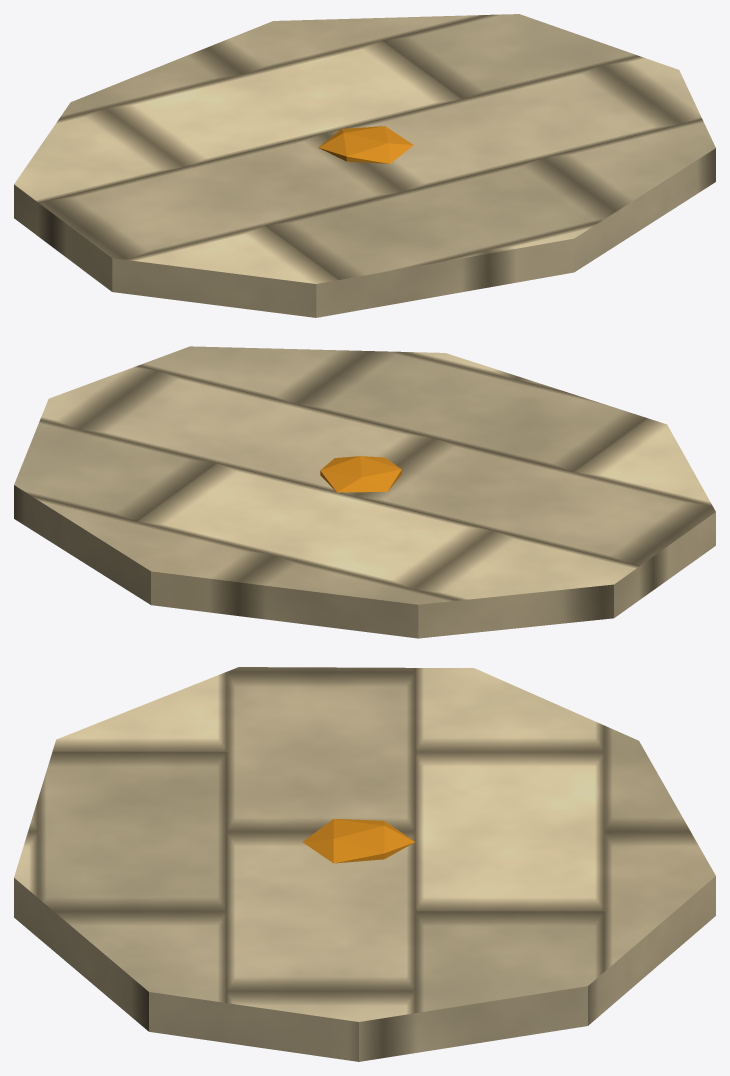
Rendered from path_slab_sky_a.glb.
The picture shows the model from 3 angles, top to bottom: view 1: azimuth 30°, elevation 25°; view 2: azimuth 150°, elevation 25°; view 3: azimuth 270°, elevation 25°; orthographic projection. The views are drawn at different scales.
Parts seen in each view (by area): view 1: path_slab_sky_a; view 2: path_slab_sky_a; view 3: path_slab_sky_a.
Boxes of the visible parts, bbox=[...] form: path_slab_sky_a: bbox=[14, 14, 715, 317]; path_slab_sky_a: bbox=[14, 346, 715, 638]; path_slab_sky_a: bbox=[14, 667, 715, 1061].
Bounding box in the file's own units: 1.34 × 0.087 × 1.12.
Materials: 2 (1 with a texture image).
